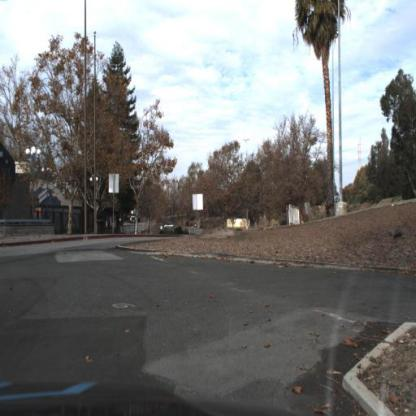car: (165, 224, 176, 231)
truck: (131, 209, 142, 224)
